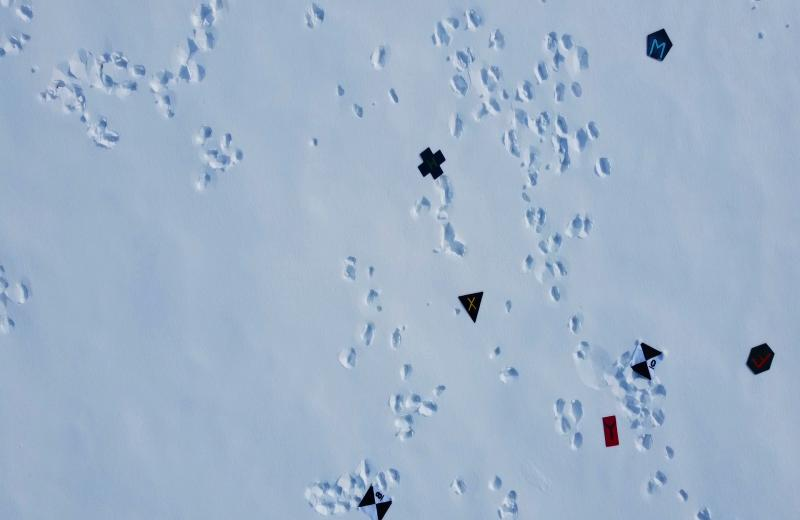Cross: (415, 142, 451, 190)
Hexagon: (741, 339, 779, 383)
Pentagon: (638, 24, 680, 70)
Rectangle: (587, 406, 630, 453)
Triangle: (454, 285, 496, 327)
